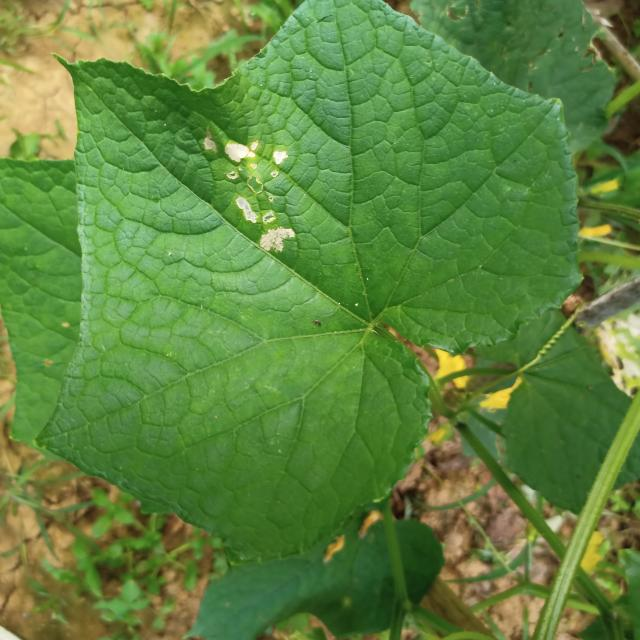disease_cucumber: (201, 126, 301, 264)
